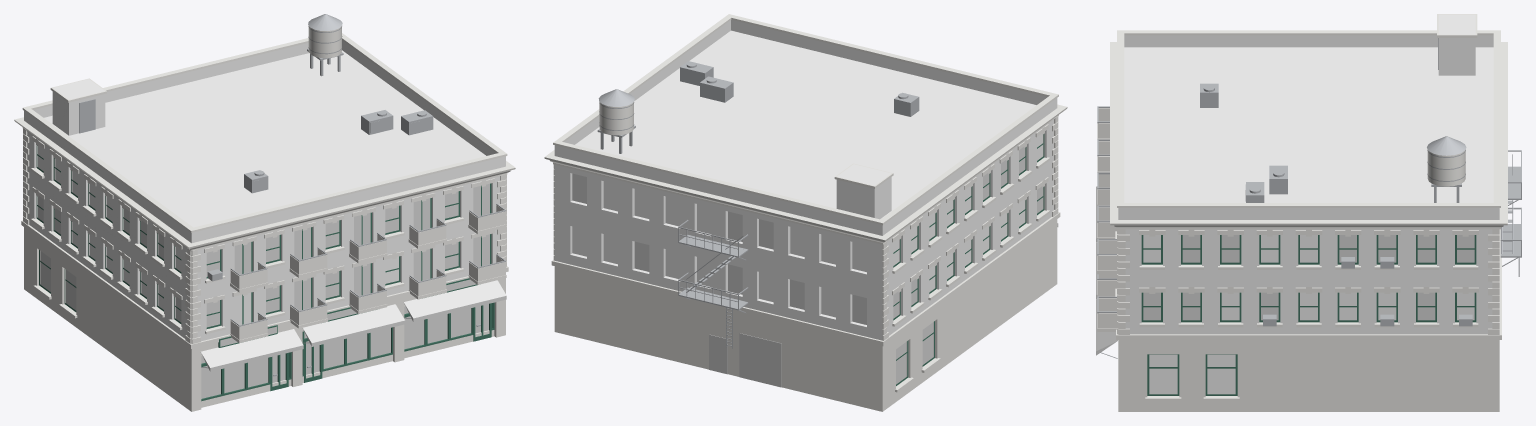
The model's file is midtown_w78f2.glb.
3 renders of one model, left to right at view 1: azimuth 30°, elevation 25°; view 2: azimuth 150°, elevation 25°; view 3: azimuth 270°, elevation 25°, orthographic. The views are drawn at different scales.
Parts seen in each view (by area): view 1: midtown_w78f2_Trim, midtown_w78f2_Roof, midtown_w78f2_Walls, midtown_w78f2_WindowsLit, midtown_w78f2_Frames, midtown_w78f2_Awning, midtown_w78f2_Details, midtown_w78f2_Glass, midtown_w78f2_Sign; view 2: midtown_w78f2_Trim, midtown_w78f2_Walls, midtown_w78f2_Roof, midtown_w78f2_Glass, midtown_w78f2_Details, midtown_w78f2_WindowsLit, midtown_w78f2_Doors, midtown_w78f2_Frames; view 3: midtown_w78f2_Roof, midtown_w78f2_Trim, midtown_w78f2_Walls, midtown_w78f2_Glass, midtown_w78f2_Details, midtown_w78f2_WindowsLit, midtown_w78f2_Frames, midtown_w78f2_Awning.
Boxes of the visible parts, <box> form: midtown_w78f2_Trim: <box>14,26,515,411</box>; midtown_w78f2_Roof: <box>44,50,485,227</box>; midtown_w78f2_Walls: <box>24,40,505,341</box>; midtown_w78f2_WindowsLit: <box>38,183,489,398</box>; midtown_w78f2_Frames: <box>36,145,494,401</box>; midtown_w78f2_Awning: <box>201,280,506,371</box>; midtown_w78f2_Details: <box>79,14,506,376</box>; midtown_w78f2_Glass: <box>38,145,398,324</box>; midtown_w78f2_Sign: <box>220,279,476,346</box>; midtown_w78f2_Trim: <box>544,14,1067,411</box>; midtown_w78f2_Walls: <box>554,20,1057,340</box>; midtown_w78f2_Roof: <box>575,30,1036,219</box>; midtown_w78f2_Glass: <box>572,133,1042,317</box>; midtown_w78f2_Details: <box>597,61,919,348</box>; midtown_w78f2_WindowsLit: <box>572,146,1042,384</box>; midtown_w78f2_Doors: <box>709,333,781,387</box>; midtown_w78f2_Frames: <box>893,134,1044,385</box>; midtown_w78f2_Roof: <box>1124,14,1493,202</box>; midtown_w78f2_Trim: <box>1097,14,1507,411</box>; midtown_w78f2_Walls: <box>1118,35,1499,334</box>; midtown_w78f2_Glass: <box>1143,235,1474,394</box>; midtown_w78f2_Details: <box>1097,38,1521,358</box>; midtown_w78f2_WindowsLit: <box>1143,235,1474,320</box>; midtown_w78f2_Frames: <box>1141,235,1476,395</box>; midtown_w78f2_Awning: <box>1096,186,1117,355</box>.
Bounding box in the file's own units: 81.12 × 53.12 × 80.4.
